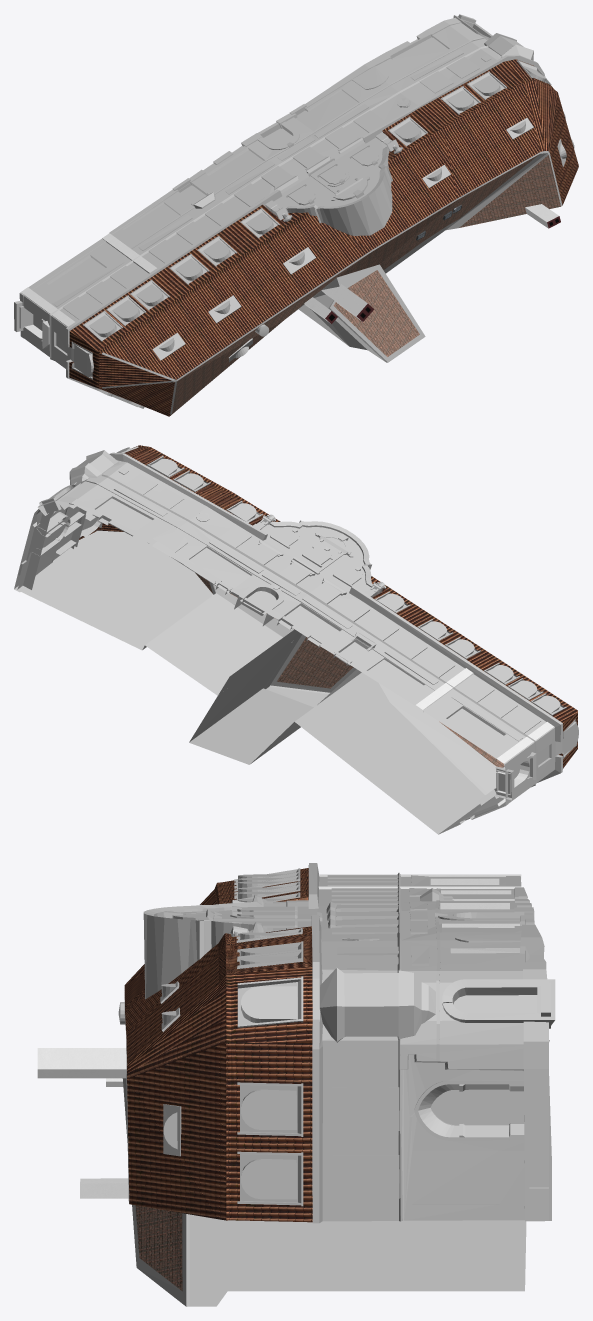
The model's file is Pikk_6.obj.
3 renders of one model, top to bottom at view 1: azimuth 30°, elevation 25°; view 2: azimuth 150°, elevation 25°; view 3: azimuth 270°, elevation 25°, orthographic. The views are drawn at different scales.
Visible parts, largest first — view 1: Pikk_6; view 2: Pikk_6; view 3: Pikk_6.
Boxes of the visible parts, x1,y1,x2,y2 form: Pikk_6: (14, 14, 578, 416); Pikk_6: (14, 445, 578, 834); Pikk_6: (37, 863, 555, 1306).
Size of the model in its own units: 44.09 by 22.32 by 19.98.
